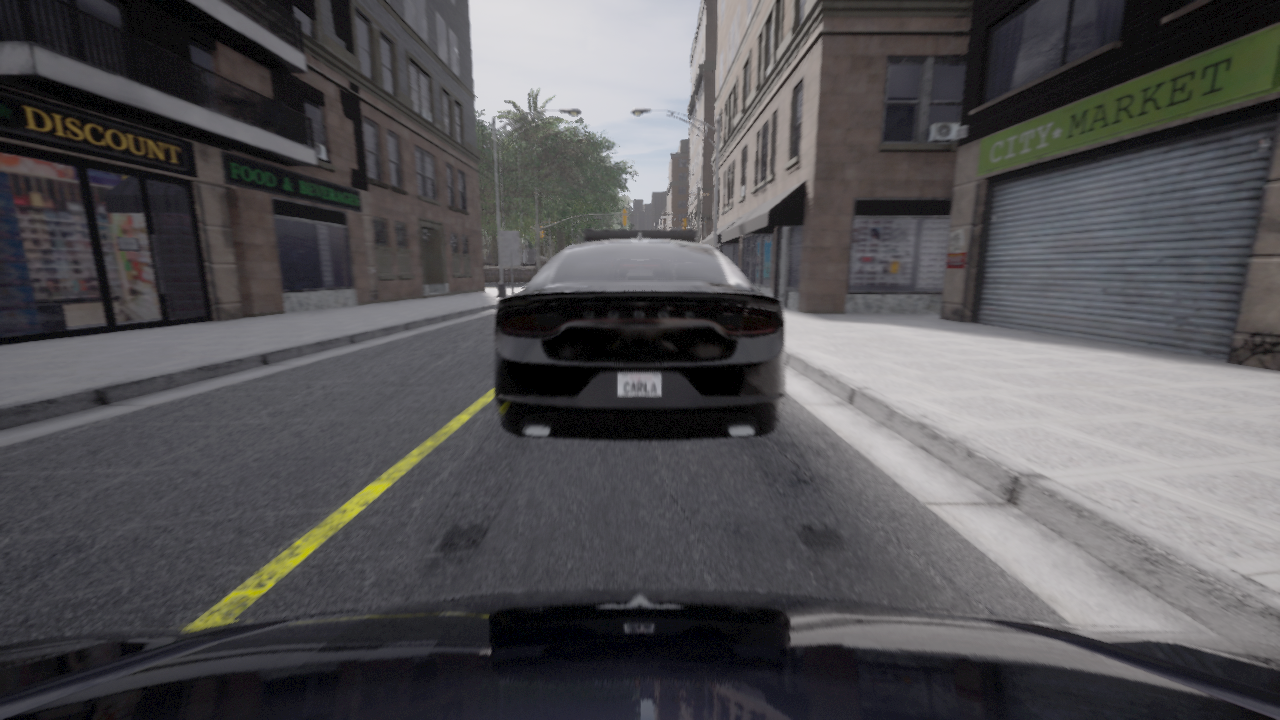cyclist: (0, 588, 1279, 719), (494, 228, 784, 440)
